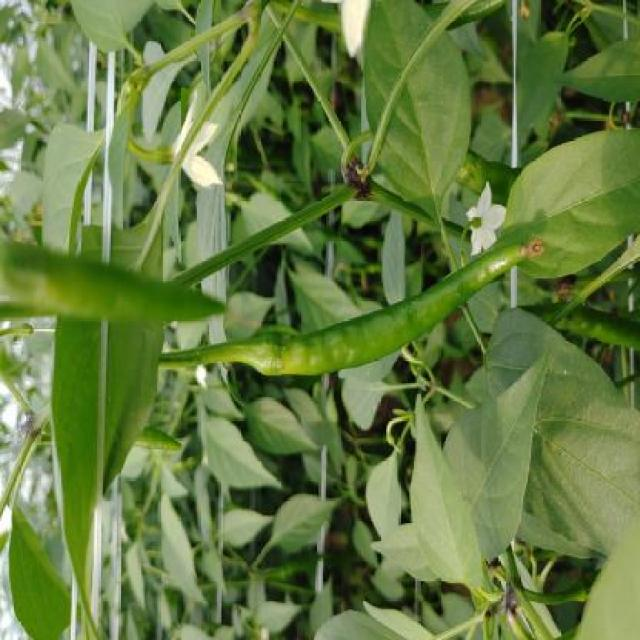green chilli: (237, 237, 545, 375)
